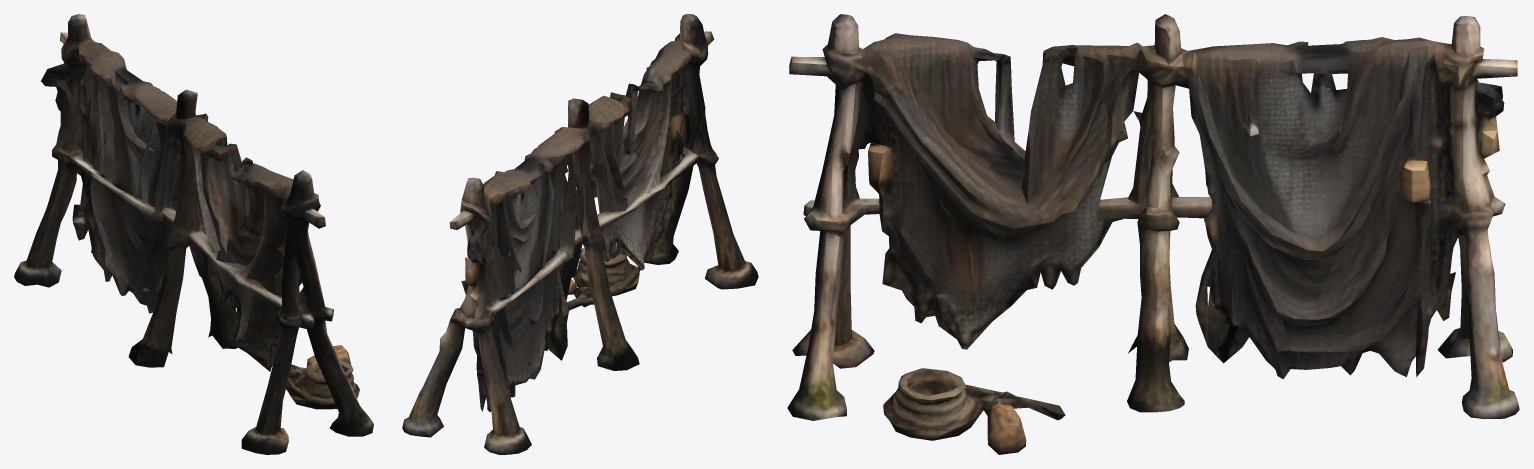
The model's file is prop-net-rack.glb.
3 renders of one model, left to right at view 1: azimuth 30°, elevation 25°; view 2: azimuth 150°, elevation 25°; view 3: azimuth 270°, elevation 25°, orthographic. The views are drawn at different scales.
Visible parts, largest first — view 1: prop-net-rack; view 2: prop-net-rack; view 3: prop-net-rack.
Boxes of the visible parts, x1,y1,x2,y2 form: prop-net-rack: (14, 14, 373, 454); prop-net-rack: (402, 14, 758, 454); prop-net-rack: (787, 14, 1519, 454).
Bounding box in the file's own units: 1.41 × 2.16 × 3.8.
1 material, 1 textured.
